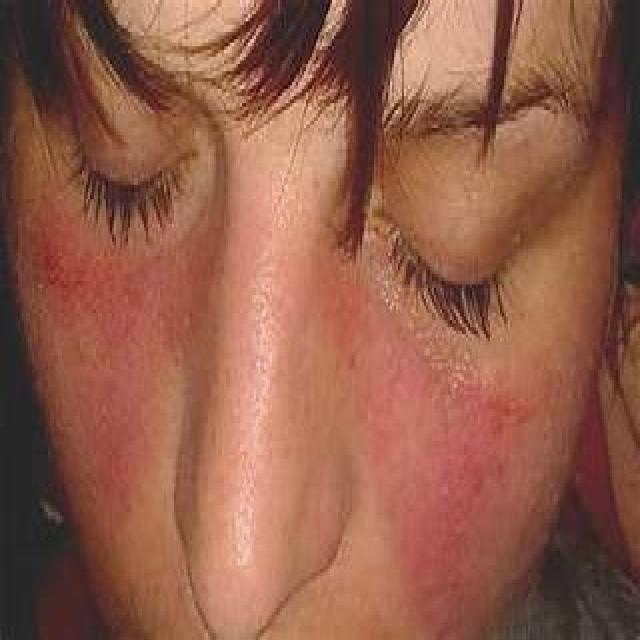Rosacea: (428, 391, 497, 532), (30, 233, 109, 328)
